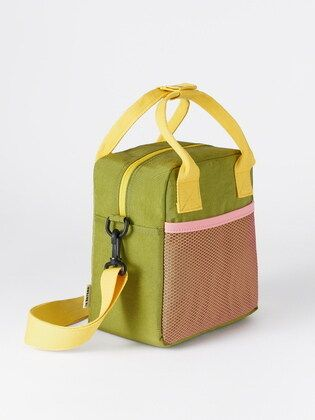nylon: (89, 140, 261, 348)
